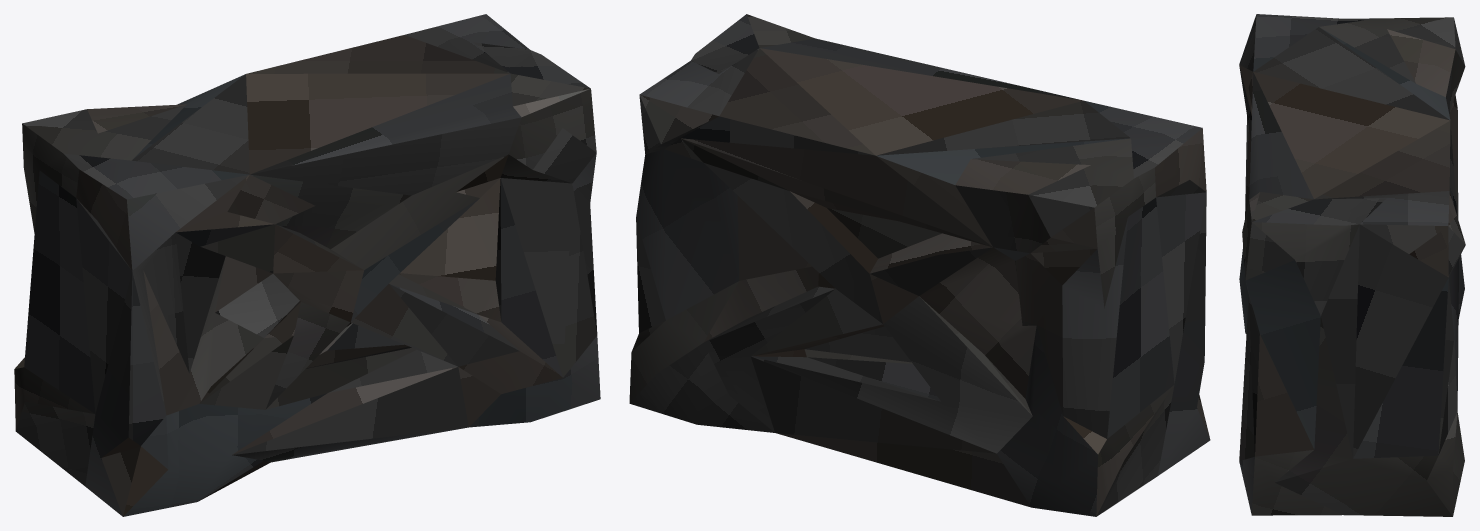
File: iron-crate.collision.glb
3 views of the same model, side by side, from view 1: azimuth 30°, elevation 25°; view 2: azimuth 150°, elevation 25°; view 3: azimuth 270°, elevation 25° (orthographic). The views are drawn at different scales.
Visible parts, largest first — view 1: output_unwrapped; view 2: output_unwrapped; view 3: output_unwrapped.
Boxes of the visible parts, <box> form: output_unwrapped: <box>14,14,600,516</box>; output_unwrapped: <box>629,14,1210,516</box>; output_unwrapped: <box>1239,14,1465,516</box>.
Bounding box in the file's own units: 1.91 × 1.21 × 0.8264.
Materials: 1 (1 with a texture image).
